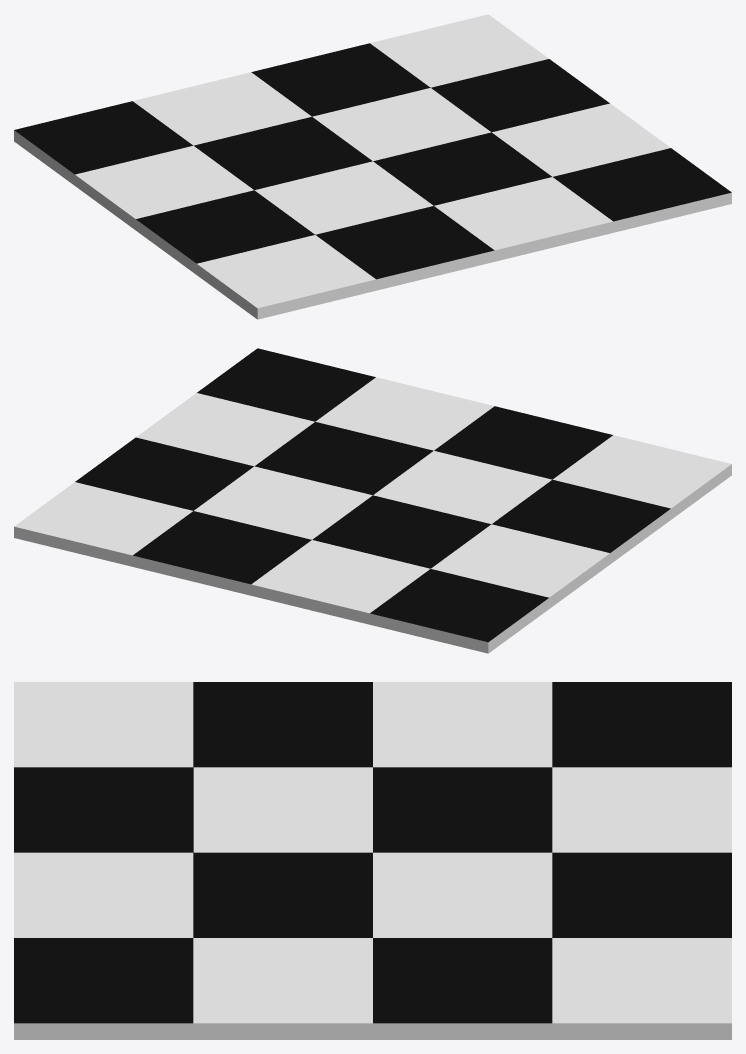
The model's file is zhongdianxian_01.FBX.
3 views of the same model, one above another, from view 1: azimuth 30°, elevation 25°; view 2: azimuth 150°, elevation 25°; view 3: azimuth 270°, elevation 25° (orthographic). The views are drawn at different scales.
Parts seen in each view (by area): view 1: Box009; view 2: Box009; view 3: Box009.
Boxes of the visible parts, box(x1,y1,x2,y2) form: Box009: box(14, 14, 731, 319); Box009: box(14, 348, 731, 653); Box009: box(14, 682, 731, 1039).
Size of the model in its own units: 37.28 by 0.8541 by 33.15.
